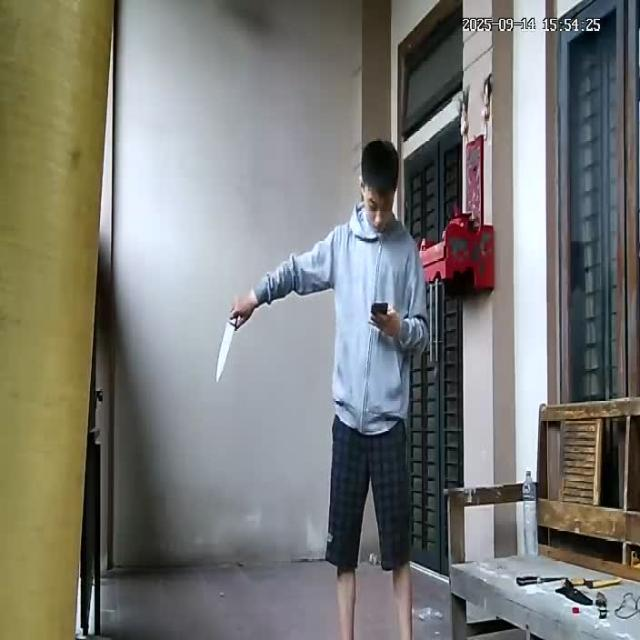senjata_tajam: (215, 317, 238, 385)
